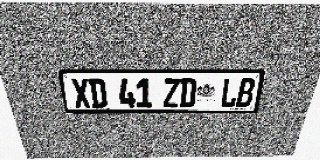1: (135, 78, 152, 108)
4: (118, 78, 136, 108)
B: (235, 78, 256, 107)
D: (88, 78, 108, 108), (179, 78, 197, 108)
L: (220, 78, 240, 107)
X: (70, 78, 91, 108)
Z: (163, 78, 180, 108)
